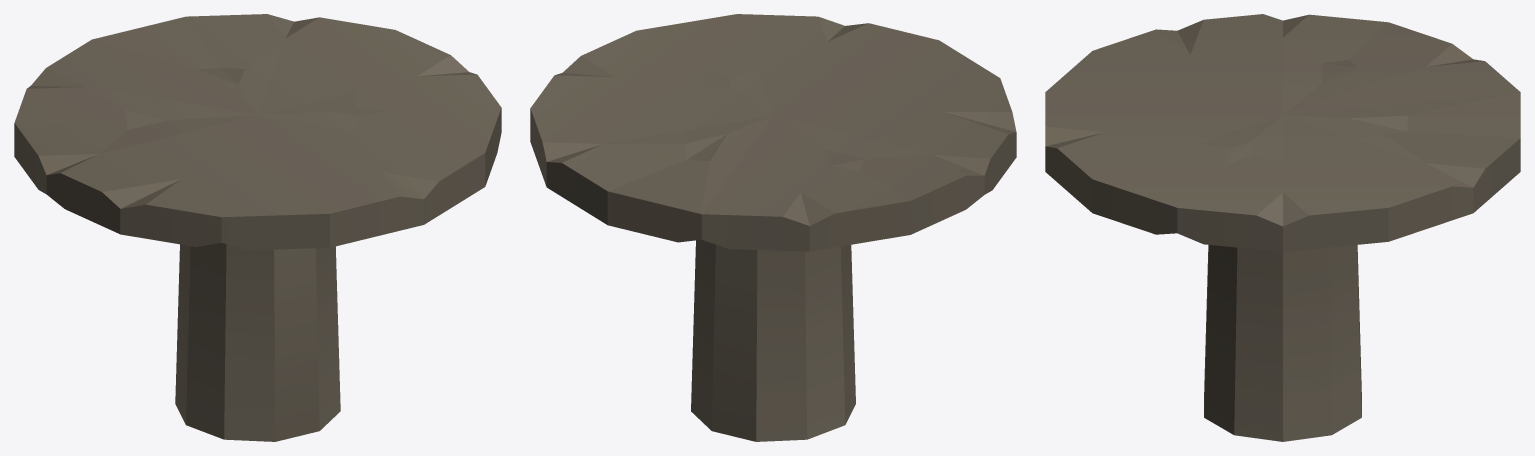
The model's file is SM_Table.FBX.
The picture shows the model from 3 angles, left to right: view 1: azimuth 30°, elevation 25°; view 2: azimuth 150°, elevation 25°; view 3: azimuth 270°, elevation 25°; orthographic projection.
Parts seen in each view (by area): view 1: SM_Table; view 2: SM_Table; view 3: SM_Table.
Part boxes in pixels (box(x1,y1,x2,y2)): SM_Table: box(14, 14, 501, 441); SM_Table: box(530, 14, 1016, 441); SM_Table: box(1045, 14, 1520, 441).
Size of what is drawn, in the model's own units: 130 by 127 by 86.78.
